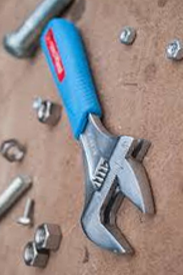wrench: (35, 17, 165, 268)
